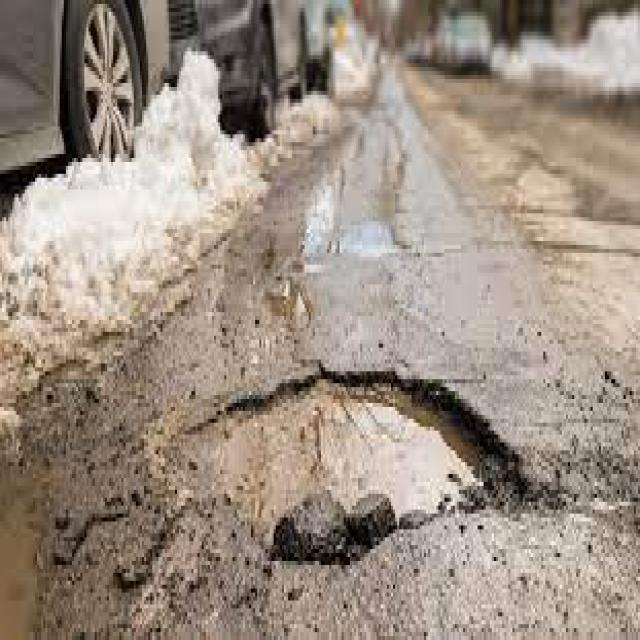pothole: (174, 354, 546, 573)
